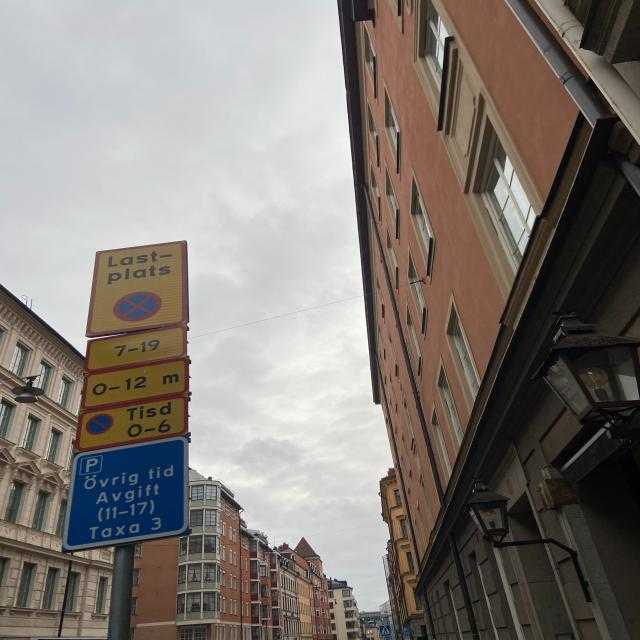lastplats: (84, 241, 188, 336)
